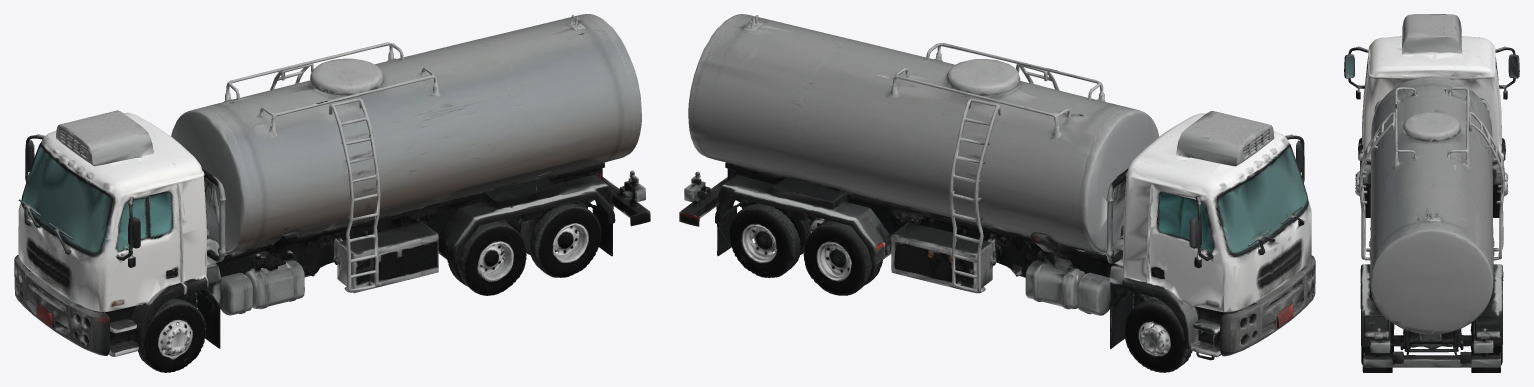
File: milk-tanker.glb
3 renders of one model, left to right at view 1: azimuth 30°, elevation 25°; view 2: azimuth 150°, elevation 25°; view 3: azimuth 270°, elevation 25°, orthographic. The views are drawn at different scales.
Bounding box in the file's own units: 1.9 × 0.7125 × 0.6452.
Materials: 1 (1 with a texture image).
